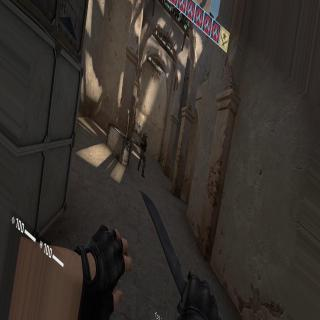CT-Body: (137, 128, 149, 175)
CT-Head: (144, 129, 148, 138)
